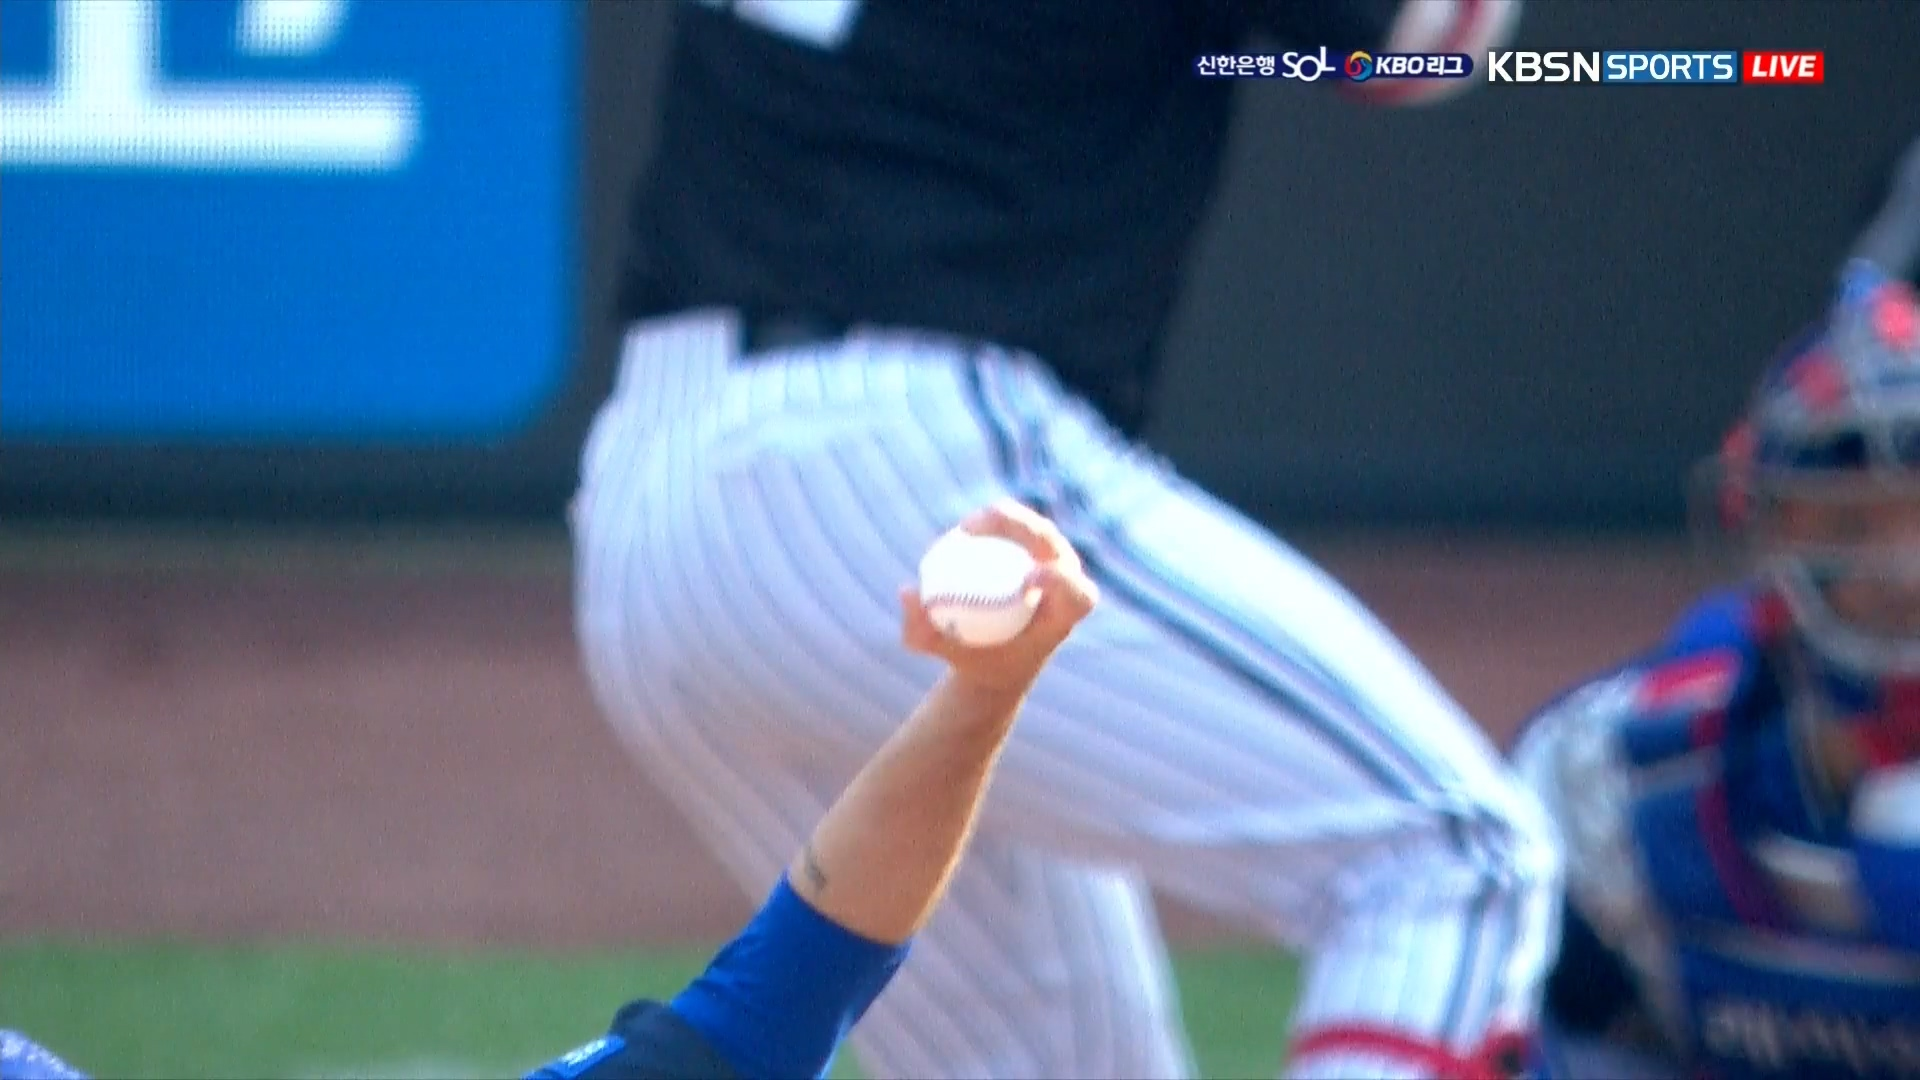zoomin_hand: (699, 501, 1105, 1080)
